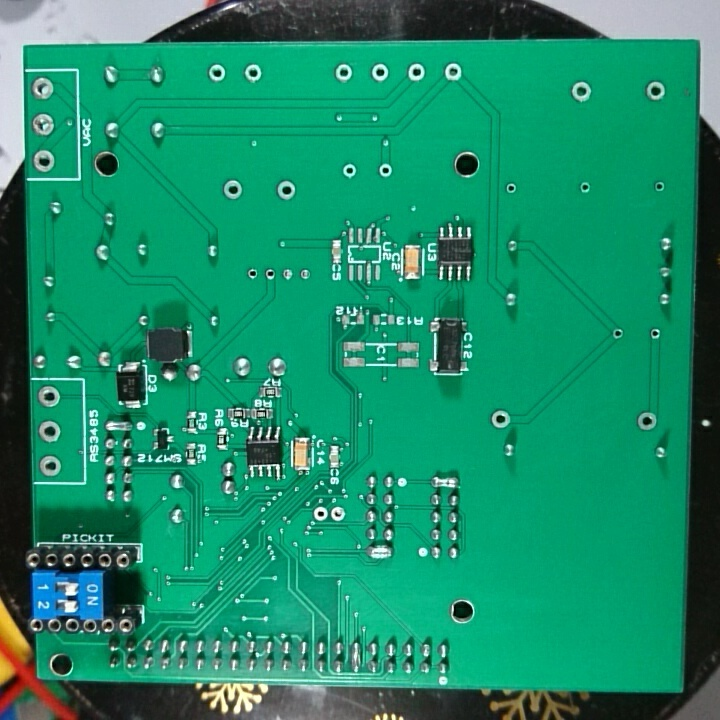F: (30, 109, 59, 139), (29, 73, 57, 103), (35, 383, 64, 411), (30, 146, 59, 174), (567, 77, 594, 107), (36, 453, 65, 479), (36, 419, 64, 443), (636, 406, 659, 434), (488, 406, 512, 431), (206, 62, 230, 87), (241, 60, 264, 86), (273, 179, 297, 203), (645, 78, 667, 104), (221, 178, 246, 200), (368, 61, 390, 86), (443, 60, 464, 85), (332, 61, 355, 83), (406, 60, 427, 84), (376, 160, 395, 181), (310, 504, 327, 526), (339, 160, 358, 179), (327, 505, 347, 523), (278, 266, 295, 286), (261, 265, 278, 284), (651, 178, 668, 195), (295, 267, 313, 283), (578, 178, 593, 197), (504, 180, 520, 197), (244, 266, 259, 284), (610, 325, 625, 342), (647, 326, 664, 340)
P: (347, 639, 363, 675), (430, 474, 461, 490), (365, 544, 395, 560), (104, 420, 136, 434)
